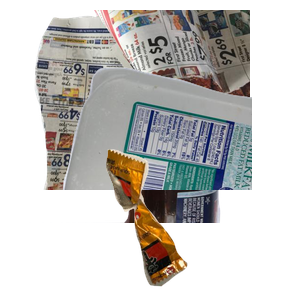glass: (29, 120, 242, 300)
paper: (32, 10, 272, 190)
plastic: (60, 65, 300, 245)
trash: (103, 147, 300, 300)
